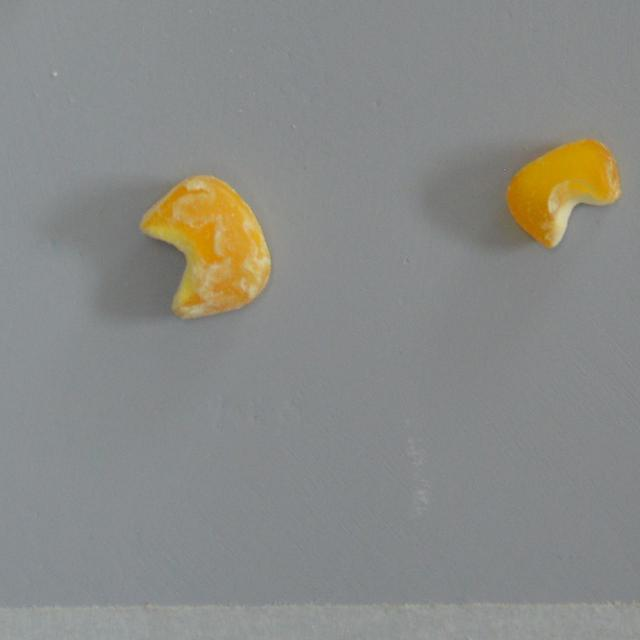pelicula: (136, 174, 270, 320), (506, 137, 622, 247)
